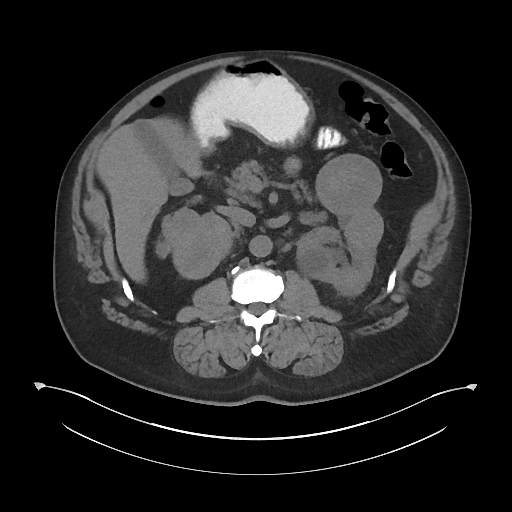Lesion: (313, 150, 384, 214)
